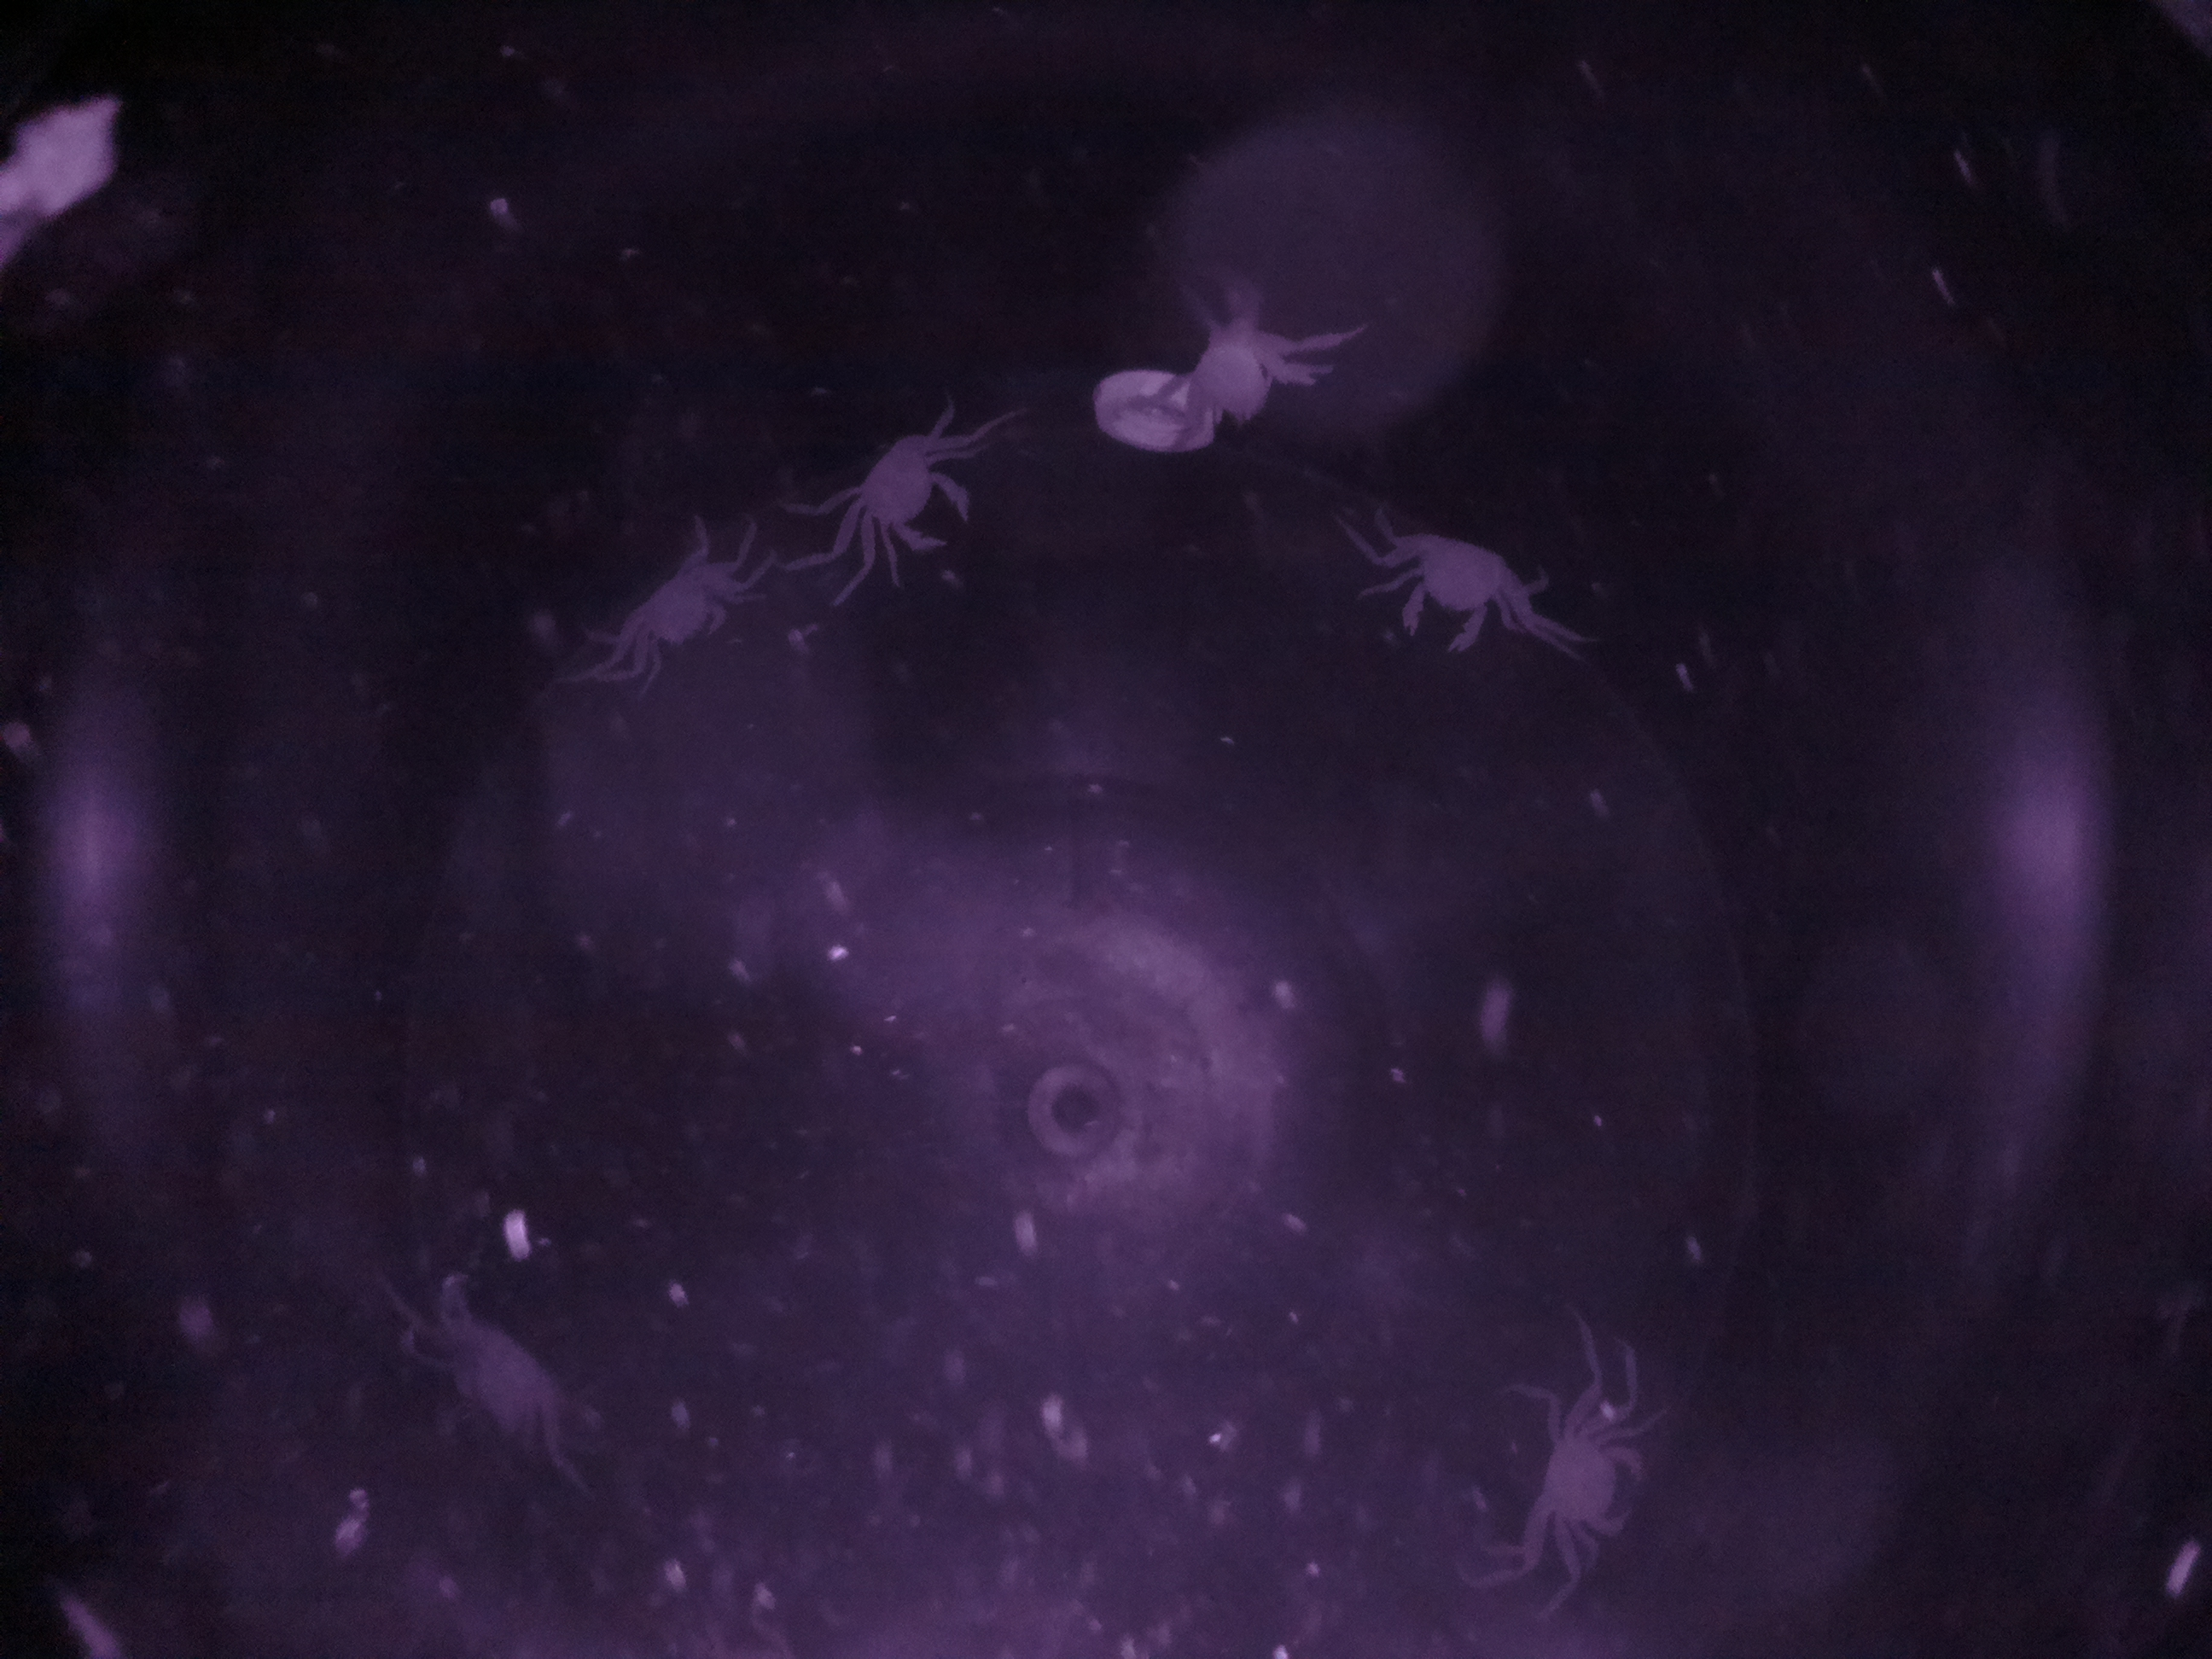Crab: (1517, 1364, 1667, 1565), (1366, 502, 1538, 664), (594, 532, 749, 699), (826, 416, 984, 565)
